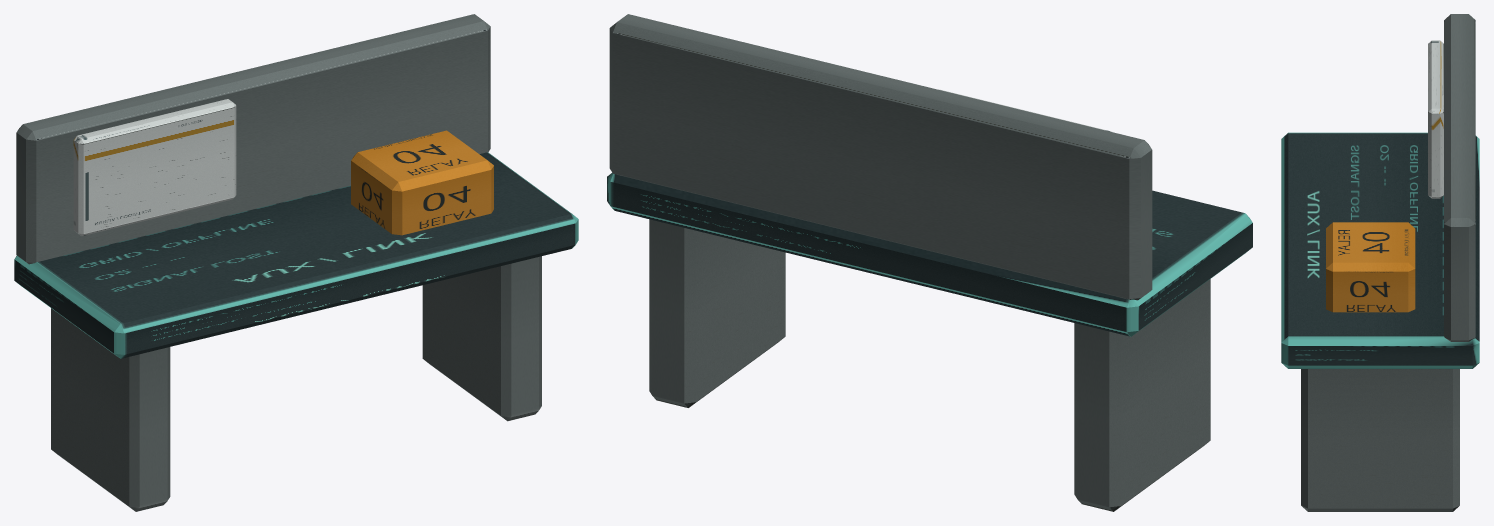
Rendered from workbench_LOD1.obj.
The picture shows the model from 3 angles, left to right: view 1: azimuth 30°, elevation 25°; view 2: azimuth 150°, elevation 25°; view 3: azimuth 270°, elevation 25°; orthographic projection. The views are drawn at different scales.
Parts seen in each view (by area): view 1: L02_workbench_LOD1; view 2: L02_workbench_LOD1; view 3: L02_workbench_LOD1.
Boxes of the visible parts, x1=… form: L02_workbench_LOD1: x1=14, y1=14, x2=578, y2=511; L02_workbench_LOD1: x1=607, y1=14, x2=1252, y2=511; L02_workbench_LOD1: x1=1281, y1=14, x2=1479, y2=511.
Bounding box in the file's own units: 2.5 × 1.7 × 1.
1 material, 1 textured.
